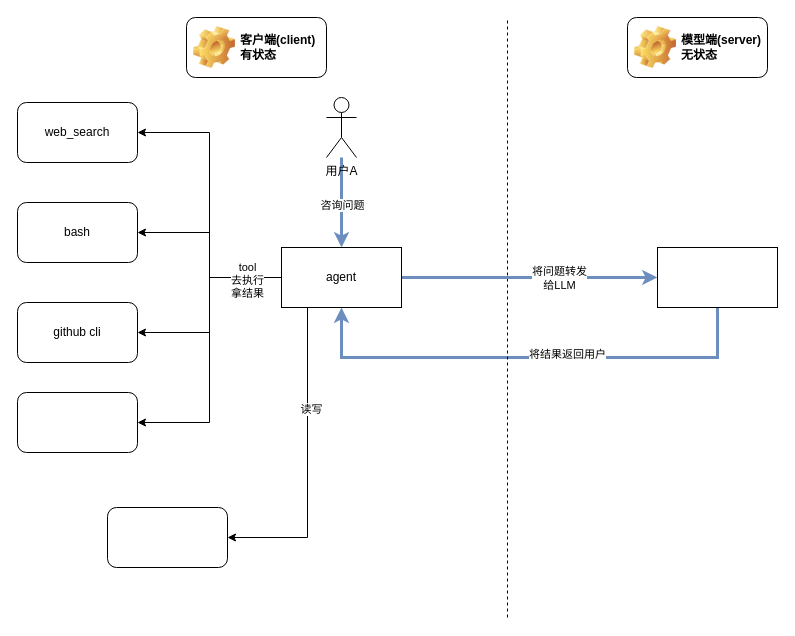
Image size: 795x636. Some labels were removed from this diagram. The shapes that lost their labels are listed below. From the top down, each one's centre as x and y in pixels, then its label:
At (x=717, y=277): "LLM".
At (x=77, y=422): "docker cli".
At (x=167, y=537): "记忆系统 各种文件/DB等".
